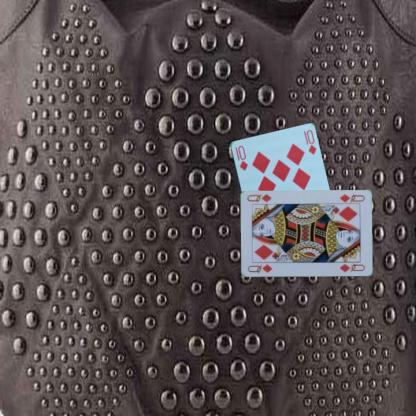10d: (232, 142, 249, 172)
Qd: (335, 192, 365, 206), (244, 262, 274, 274)
